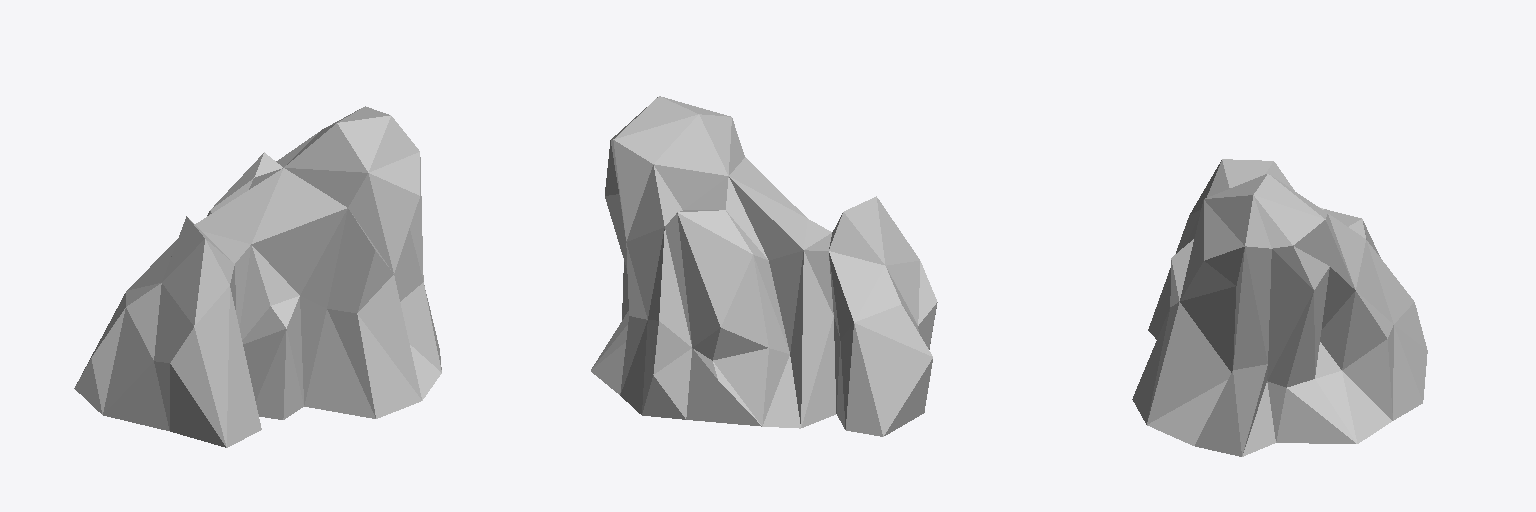
The model's file is rock_005_LOD2.obj.
The picture shows the model from 3 angles: view 1: azimuth 30°, elevation 25°; view 2: azimuth 150°, elevation 25°; view 3: azimuth 270°, elevation 25°; orthographic projection.
Parts seen in each view (by area): view 1: rock_005_LOD2 rock_005; view 2: rock_005_LOD2 rock_005; view 3: rock_005_LOD2 rock_005.
Boxes of the visible parts, x1,y1,x2,y2 form: rock_005_LOD2 rock_005: [74, 106, 441, 447]; rock_005_LOD2 rock_005: [591, 96, 937, 436]; rock_005_LOD2 rock_005: [1132, 159, 1427, 456].
Bounding box in the file's own units: 1283 × 895 × 995.